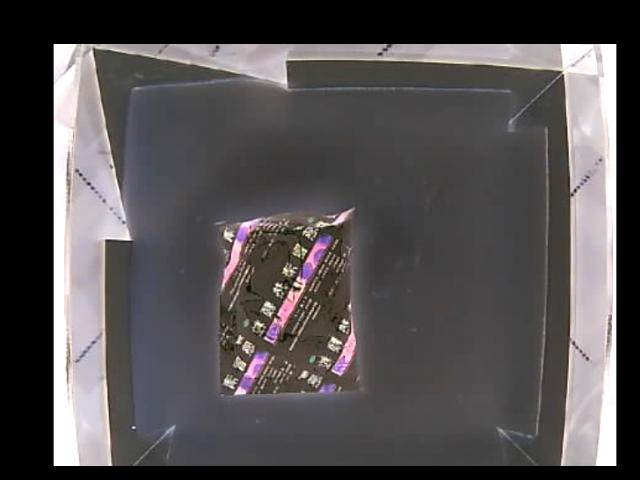Medicine: (217, 204, 356, 398)
